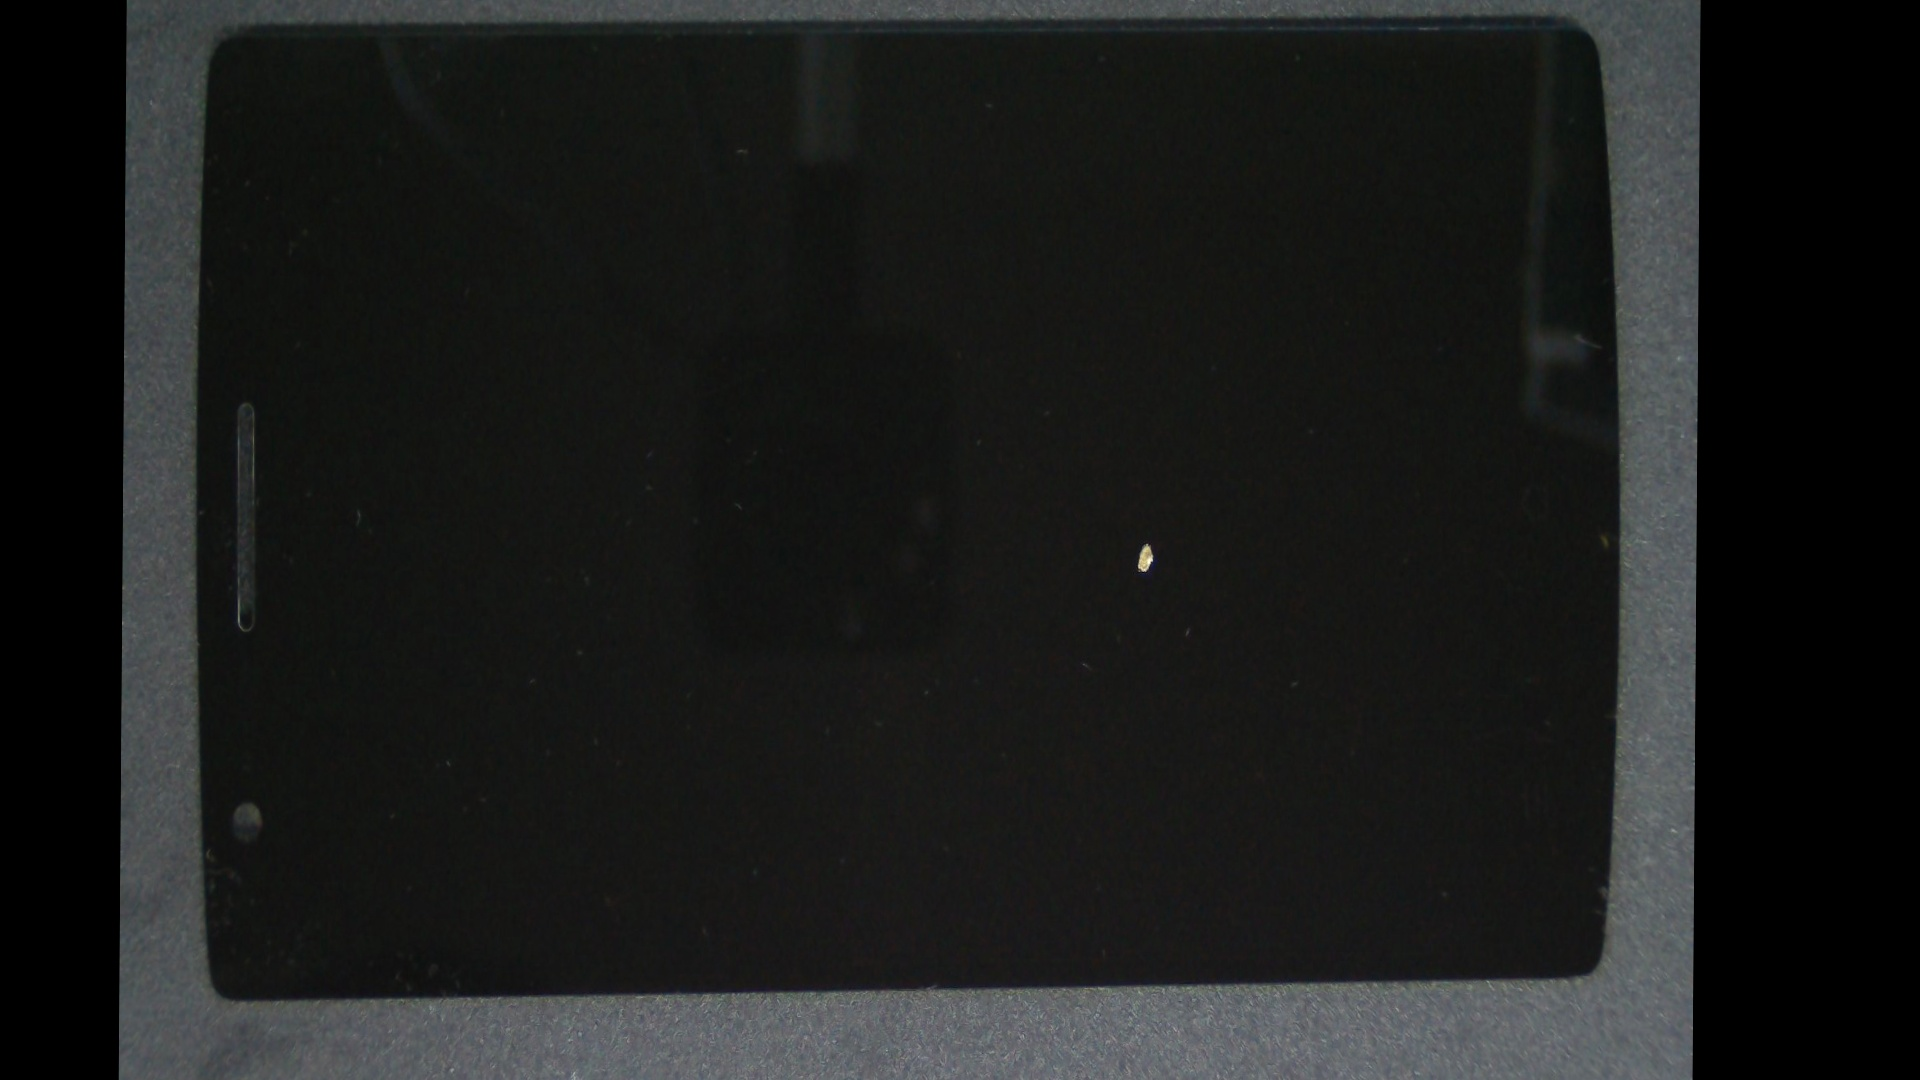oil: (633, 212, 1660, 872)
